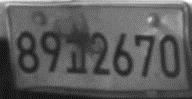0: (159, 35, 181, 79)
2: (88, 31, 113, 75)
6: (113, 32, 133, 77)
7: (134, 34, 155, 77)
8: (15, 30, 39, 74)
9: (40, 30, 61, 73)
고: (64, 35, 87, 76)
